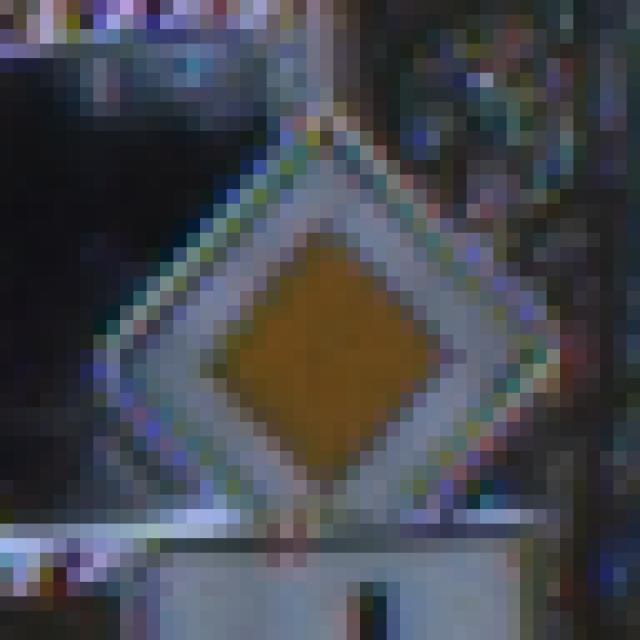Main Road: (81, 89, 574, 569)
